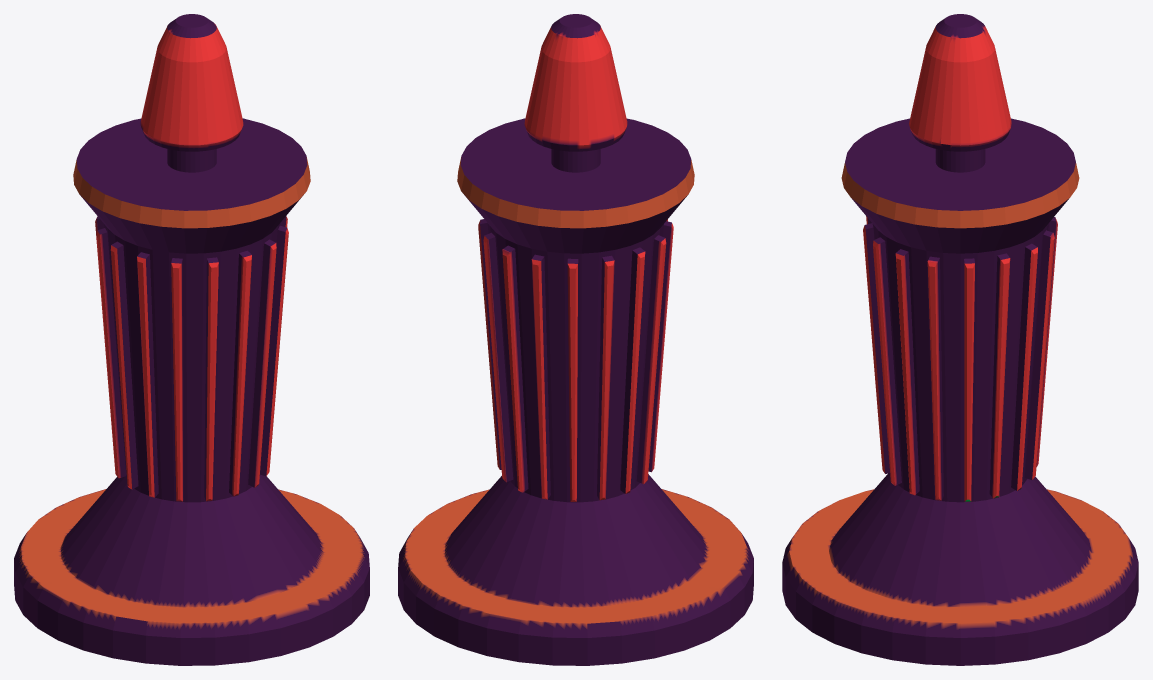
File: GenerationPower.fbx
3 renders of one model, left to right at view 1: azimuth 30°, elevation 25°; view 2: azimuth 150°, elevation 25°; view 3: azimuth 270°, elevation 25°, orthographic.
Visible parts, largest first — view 1: Cylinder.001; view 2: Cylinder.001; view 3: Cylinder.001.
Part boxes in pixels (bbox=[...]): Cylinder.001: bbox=[14, 14, 369, 665]; Cylinder.001: bbox=[398, 14, 753, 665]; Cylinder.001: bbox=[782, 14, 1138, 665].
Bounding box in the file's own units: 84.59 × 149 × 84.59.
